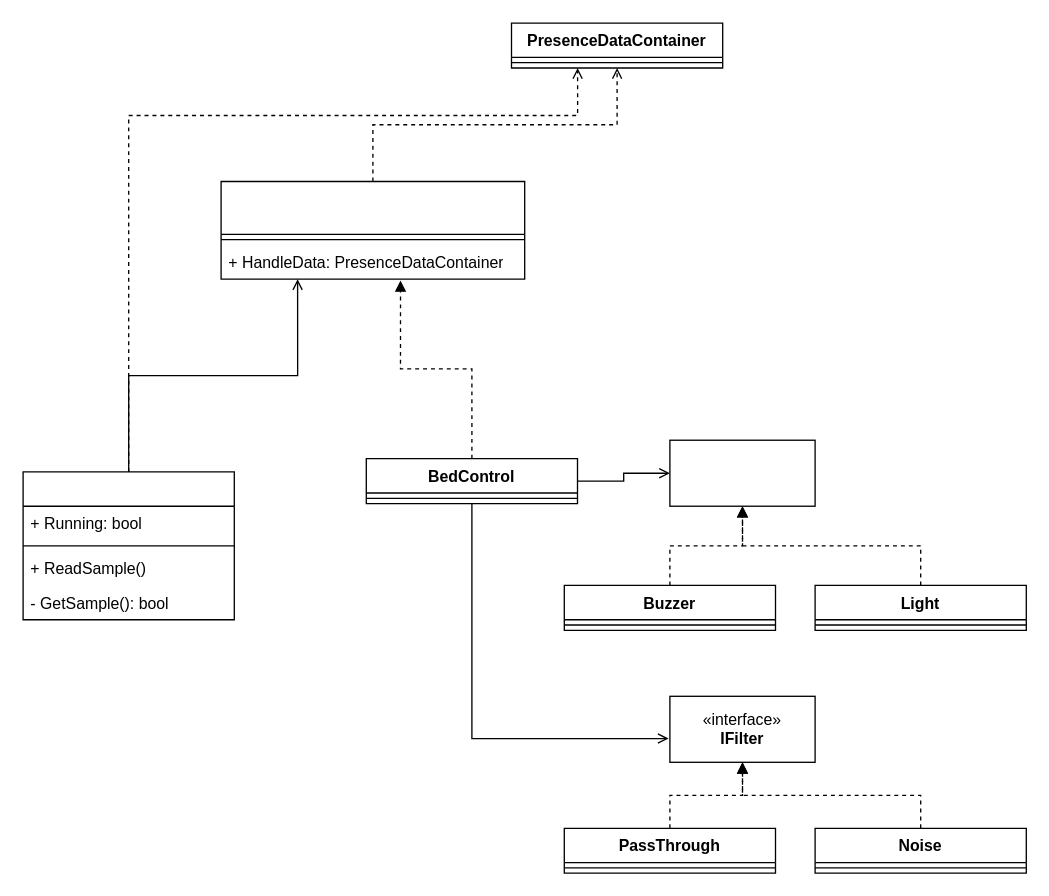
The diagram is 1049 pixels wide and 896 high, and some of its shapes have lost their labels. Each missing label, with the box of its shape:
<<interface>> IBedControl: (220, 180, 525, 279)
PresenceSensor: (22, 471, 234, 620)
«interface» IAlarm: (669, 439, 815, 506)
